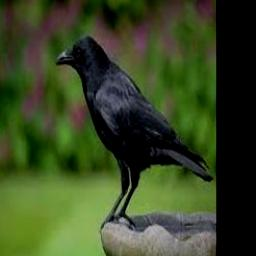Crow: (55, 34, 214, 228)
